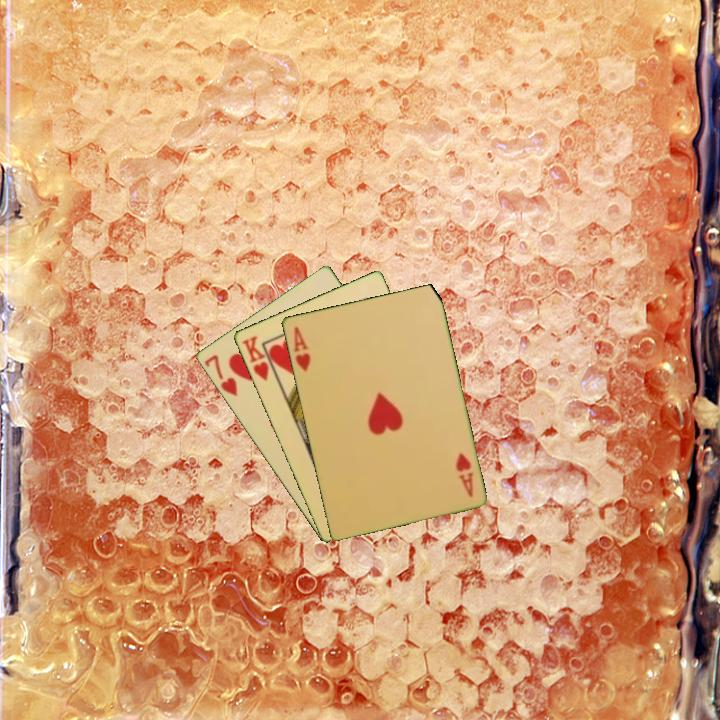7h: (200, 351, 240, 399)
Ah: (452, 449, 476, 500), (290, 323, 313, 374)
Kh: (238, 332, 279, 384)
